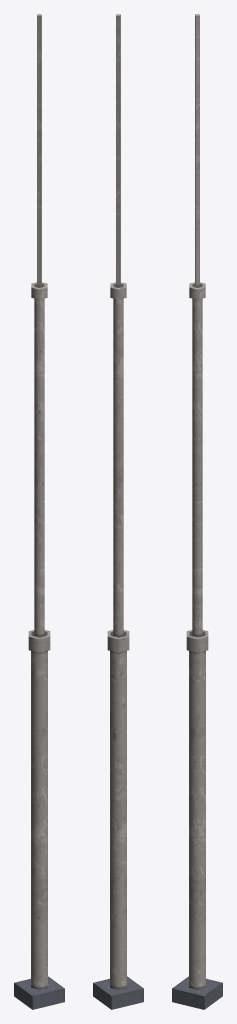
File: jctRoofRodA.fbx
3 renders of one model, left to right at view 1: azimuth 30°, elevation 25°; view 2: azimuth 210°, elevation 25°; view 3: azimuth 330°, elevation 25°, orthographic.
Visible parts, largest first — view 1: jctRoofRodA; view 2: jctRoofRodA; view 3: jctRoofRodA.
Part boxes in pixels (x1,y1,x2,y2): jctRoofRodA: (14, 14, 64, 1009); jctRoofRodA: (93, 14, 143, 1009); jctRoofRodA: (172, 14, 222, 1009).
Size of the model in its own units: 50 by 1455 by 50.
